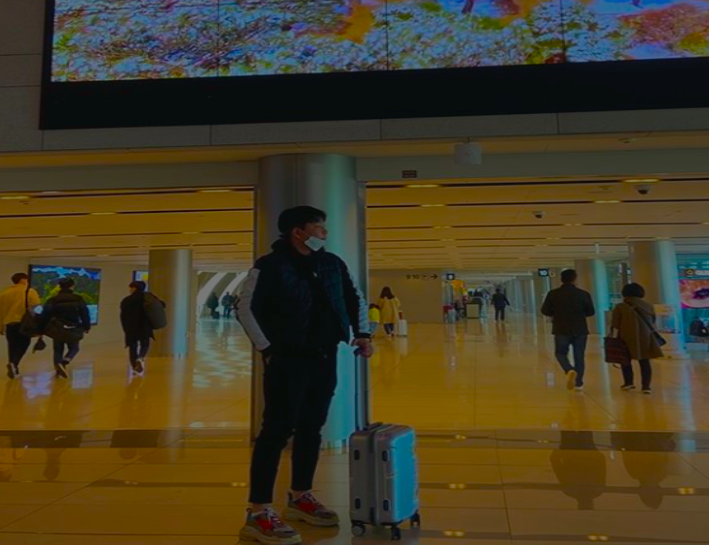mask_weared_incorrect: (280, 203, 332, 256)
